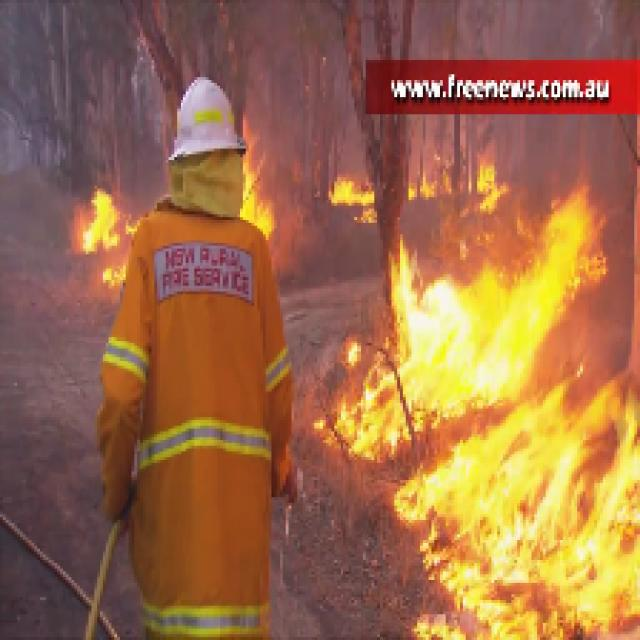fire: (390, 294, 640, 637), (76, 192, 125, 295), (413, 169, 501, 212), (328, 178, 376, 228)
